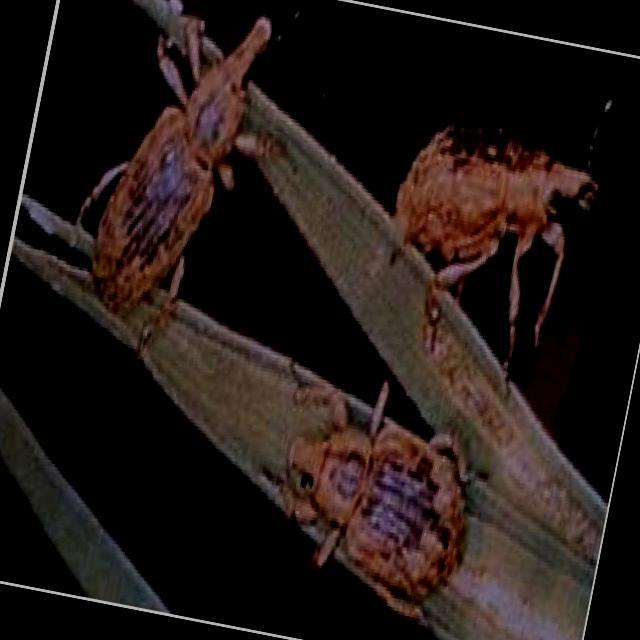ricebug: (77, 16, 271, 313), (395, 126, 596, 358), (310, 385, 465, 620)
